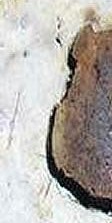Corrosion: (45, 23, 112, 218)
